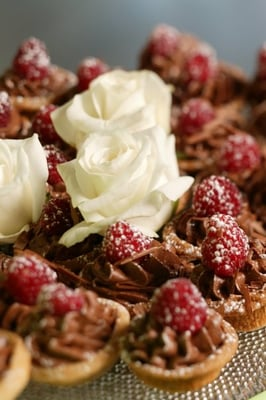salad: (120, 277, 238, 393)
